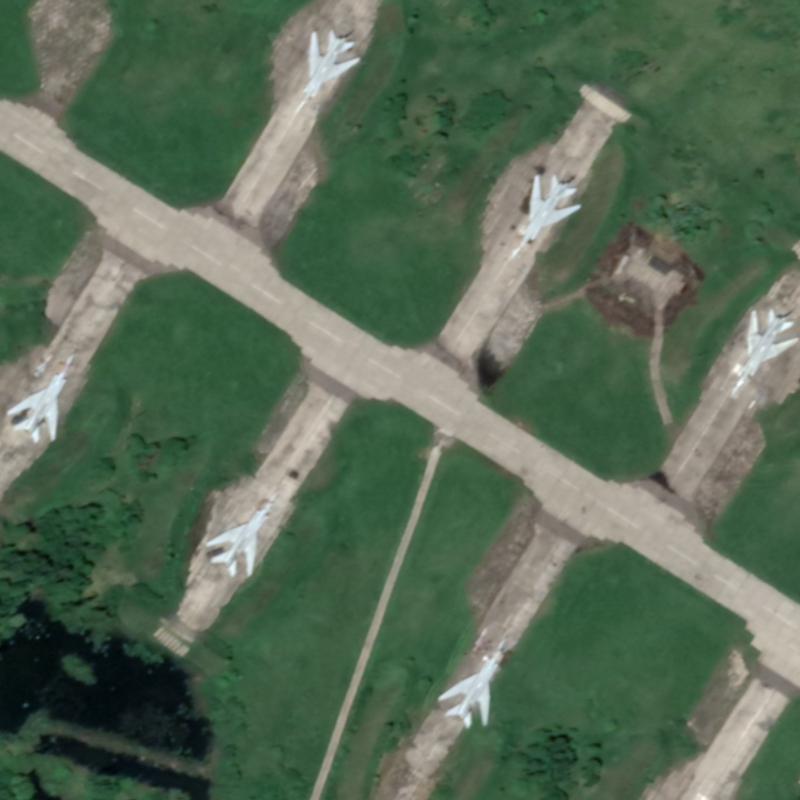A12: (428, 622, 515, 734), (197, 476, 282, 587), (498, 163, 585, 269), (280, 26, 366, 131), (2, 343, 82, 450), (723, 305, 799, 405)
